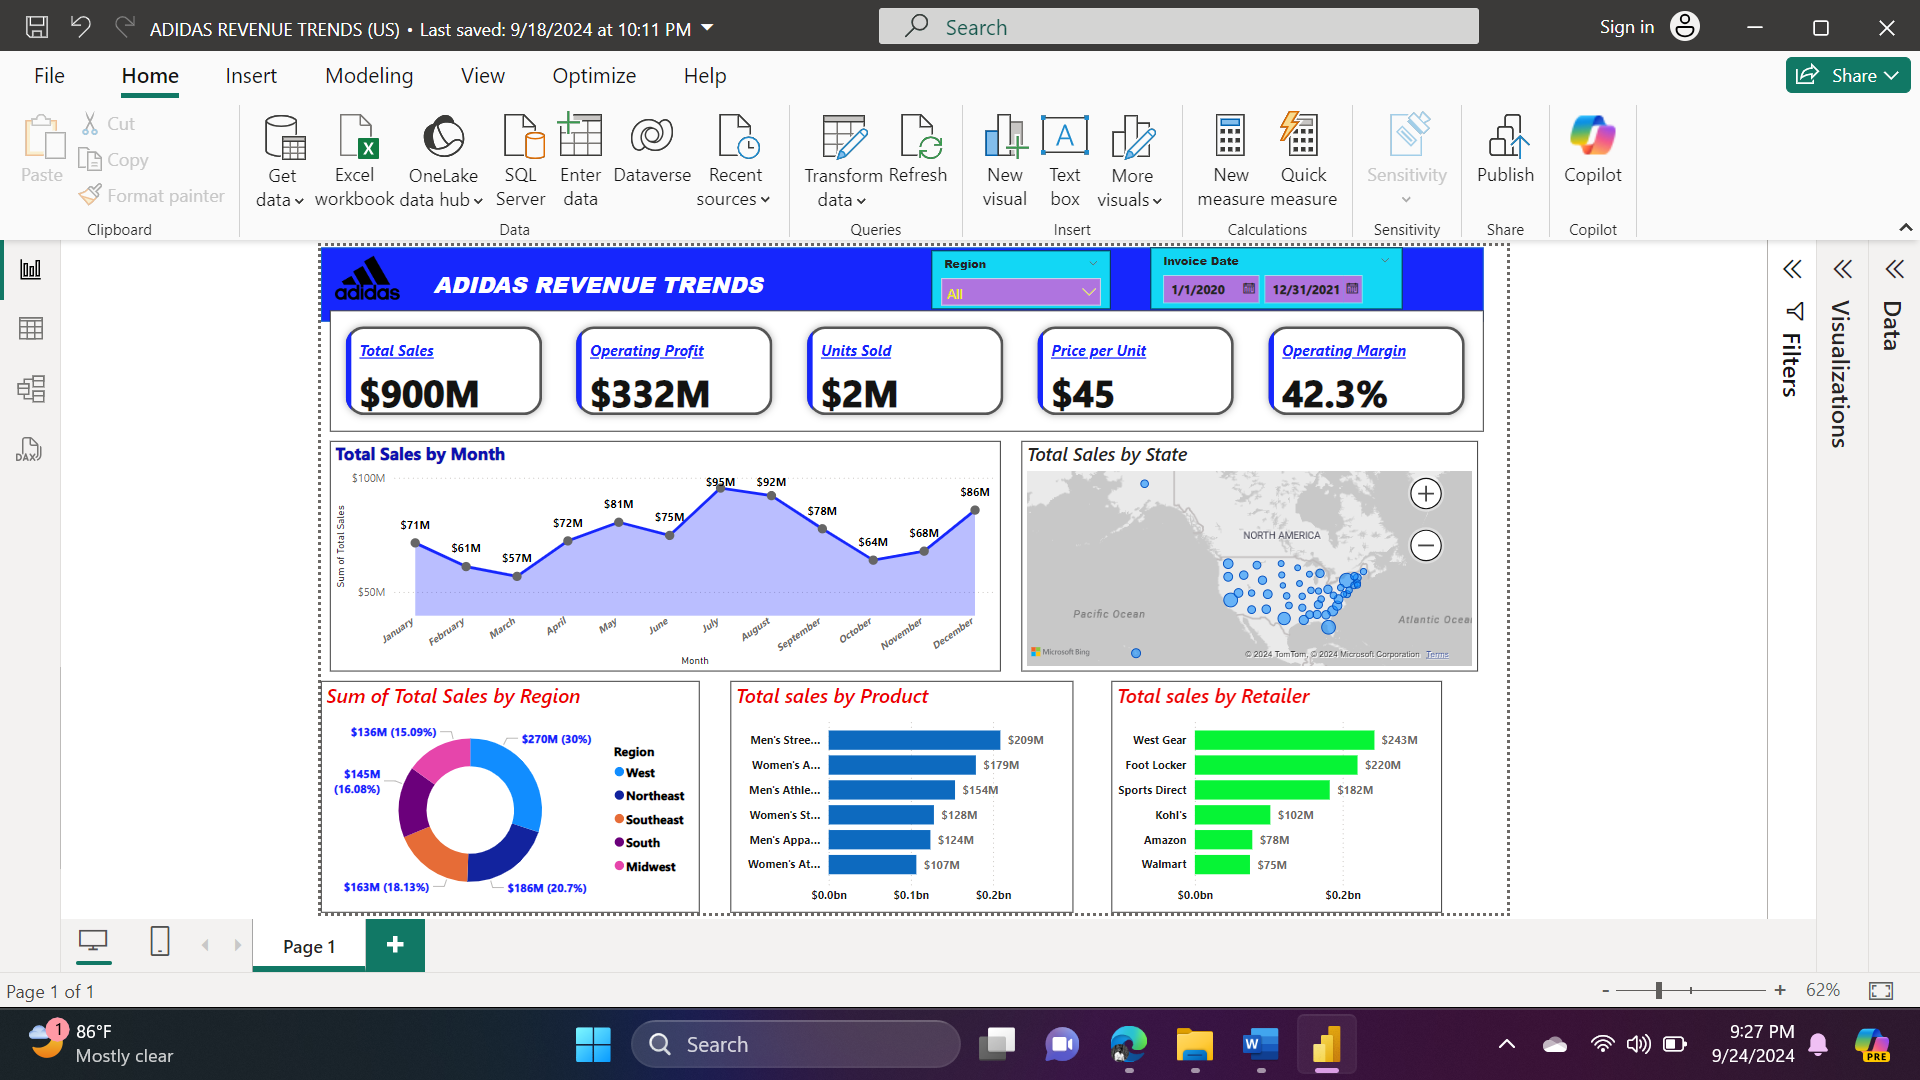

What the dashboard file says about the page in this screenshot:
{"tool":"powerbi","page":{"name":"Page 1","canvas":[1280,720],"ordinal":0},"visuals":[{"type":"shape","box":[0,1.7,1255,80],"z":0},{"type":"textbox","box":[10,0,648.6,70],"z":1000},{"type":"cardVisual","fields":{"Data":["Sum(Data Sales Adidas.Total Sales)","Sum(Data Sales Adidas.Operating Profit)","Sum(Data Sales Adidas.Units Sold)","Avg(Data Sales Adidas.Price per Unit)","Avg(Data Sales Adidas.Operating Margin)"]},"box":[9.4,69.9,1245.4,130.4],"z":2000},{"type":"areaChart","title":"Total Sales by Month","fields":{"Category":["Data Sales Adidas.Invoice Date.Variation.Date Hierarchy.Month"],"Y":["Sum(Data Sales Adidas.Total Sales)"]},"box":[10,210,724.3,248.6],"z":3000},{"type":"map","title":"Total Sales by State","fields":{"Category":["Data Sales Adidas.State"],"Size":["Sum(Data Sales Adidas.Total Sales)"]},"box":[755.7,210,492.9,248.6],"z":4000},{"type":"donutChart","fields":{"Category":["Data Sales Adidas.Region"],"Y":["Sum(Data Sales Adidas.Total Sales)"]},"box":[0,470,408.3,250],"z":5000},{"type":"barChart","title":"Total sales by Product","fields":{"Category":["Data Sales Adidas.Product"],"Y":["Sum(Data Sales Adidas.Total Sales)"]},"box":[441.7,470,370,250],"z":6000},{"type":"barChart","title":"Total sales by Retailer","fields":{"Category":["Data Sales Adidas.Retailer"],"Y":["Sum(Data Sales Adidas.Total Sales)"]},"box":[853.3,470,356.7,250],"z":7000},{"type":"slicer","fields":{"Values":["Data Sales Adidas.Region"]},"box":[658.3,5,193.3,63.3],"z":8000},{"type":"slicer","fields":{"Values":["Data Sales Adidas.Invoice Date"]},"box":[895,1.7,271.7,66.7],"z":9000},{"type":"image","box":[10,0,80,68.6],"z":10000}]}

Visuals, with their boxes on the page's 1280x720 design canvas (x1, y1, x2, y2). These are canvas units, not pixel positions in the 1920x1080 screenshot, which may show the page scaled, cropped or inside an application window:
shape: (x1=0, y1=2, x2=1255, y2=82)
textbox: (x1=10, y1=0, x2=659, y2=70)
cardVisual - Sum(Data Sales Adidas.Total Sales) x Sum(Data Sales Adidas.Operating Profit): (x1=9, y1=70, x2=1255, y2=200)
"Total Sales by Month" areaChart: (x1=10, y1=210, x2=734, y2=459)
"Total Sales by State" map: (x1=756, y1=210, x2=1249, y2=459)
donutChart - Data Sales Adidas.Region x Sum(Data Sales Adidas.Total Sales): (x1=0, y1=470, x2=408, y2=720)
"Total sales by Product" barChart: (x1=442, y1=470, x2=812, y2=720)
"Total sales by Retailer" barChart: (x1=853, y1=470, x2=1210, y2=720)
slicer - Data Sales Adidas.Region: (x1=658, y1=5, x2=852, y2=68)
slicer - Data Sales Adidas.Invoice Date: (x1=895, y1=2, x2=1167, y2=68)
image: (x1=10, y1=0, x2=90, y2=69)
